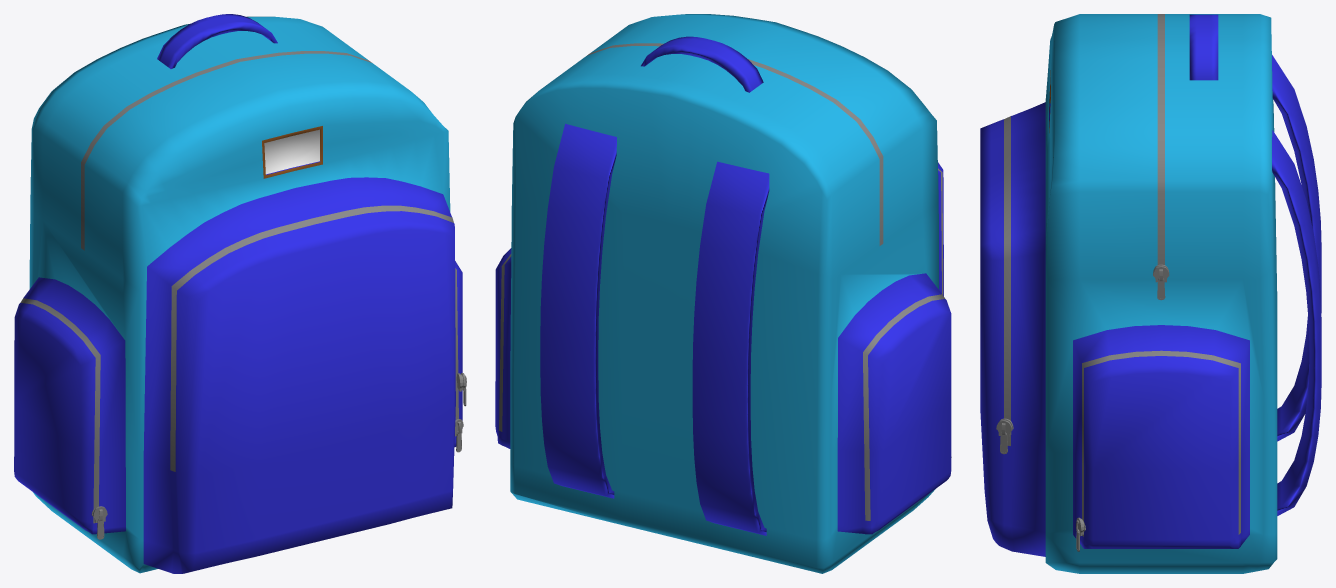
Rendered from Schoolbag_v9.fbx.
3 renders of one model, left to right at view 1: azimuth 30°, elevation 25°; view 2: azimuth 150°, elevation 25°; view 3: azimuth 270°, elevation 25°, orthographic. The views are drawn at different scales.
Visible parts, largest first — view 1: Schoolbag, Upper_handle; view 2: Schoolbag, right_handle, left_handle, Upper_handle; view 3: Schoolbag, right_handle, left_handle, Upper_handle.
Boxes of the visible parts, x1,y1,x2,y2 form: Schoolbag: [14, 16, 462, 573]; Upper_handle: [157, 14, 277, 68]; Schoolbag: [495, 14, 951, 573]; right_handle: [540, 123, 616, 498]; left_handle: [692, 161, 769, 535]; Upper_handle: [641, 36, 763, 92]; Schoolbag: [980, 14, 1277, 573]; right_handle: [1272, 130, 1321, 515]; left_handle: [1272, 55, 1321, 441]; Upper_handle: [1189, 14, 1218, 80].
Size of the model in its own units: 84.24 by 97.8 by 63.46.
